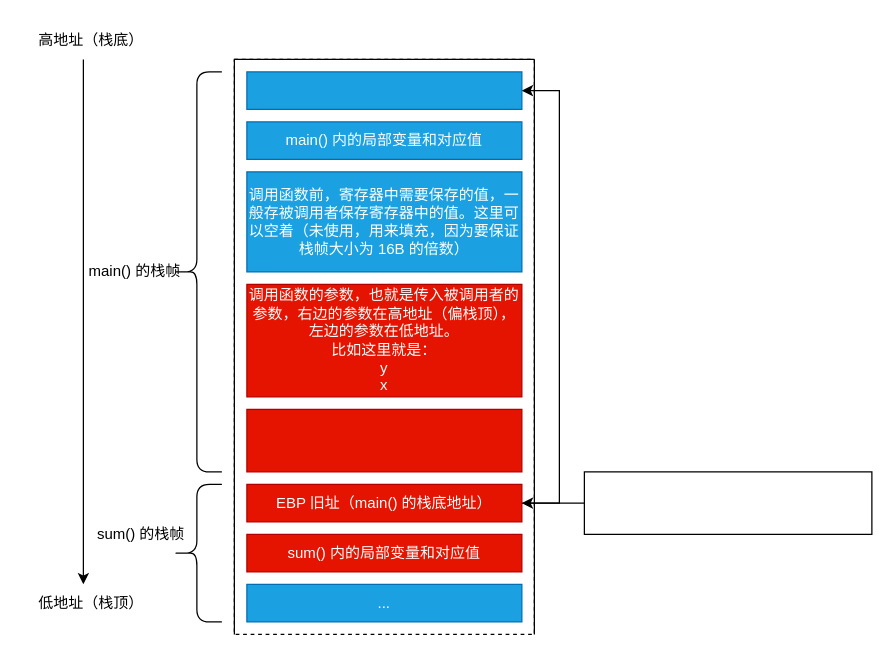
Image size: 894x658. Some labels were removed from this diagram. Here are the shapes that lost their labels. From the top down, the centre of each, then its label:
pixel 384 90: EBP 旧址（main() 的调用者）
pixel 384 440: 返回地址（指的是调用函数后的一下条指令的地址） 这里就是 return 0 对应指令的地址
pixel 727 502: 执行 sum() 时的 EBP EBP + x 表示访问函数的参数。 EBP - x 表示访问函数内部的局部变量。
